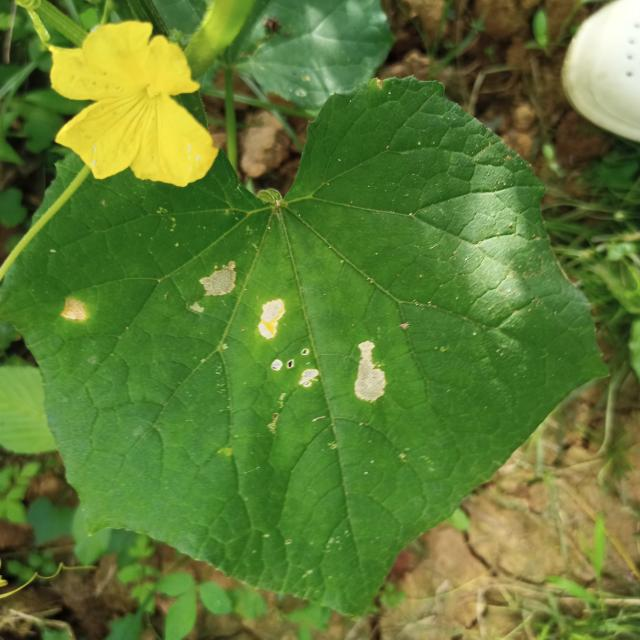disease_cucumber: (189, 260, 389, 407), (59, 296, 89, 324)
